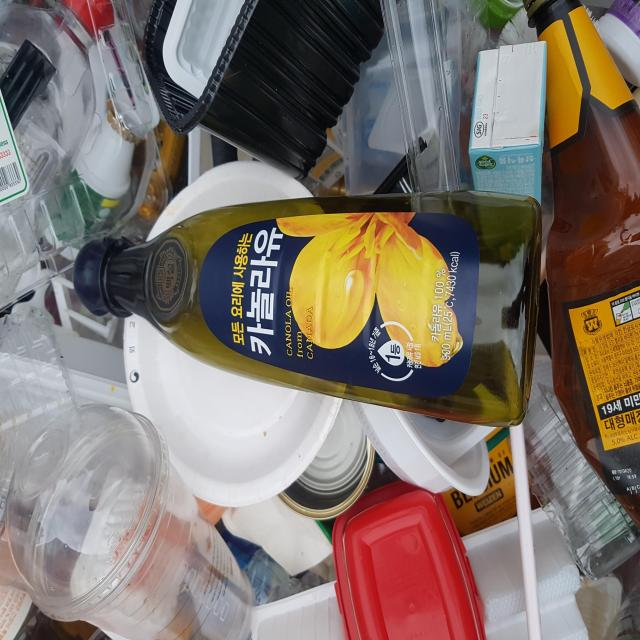bottle: (72, 180, 545, 437), (538, 0, 640, 504)
